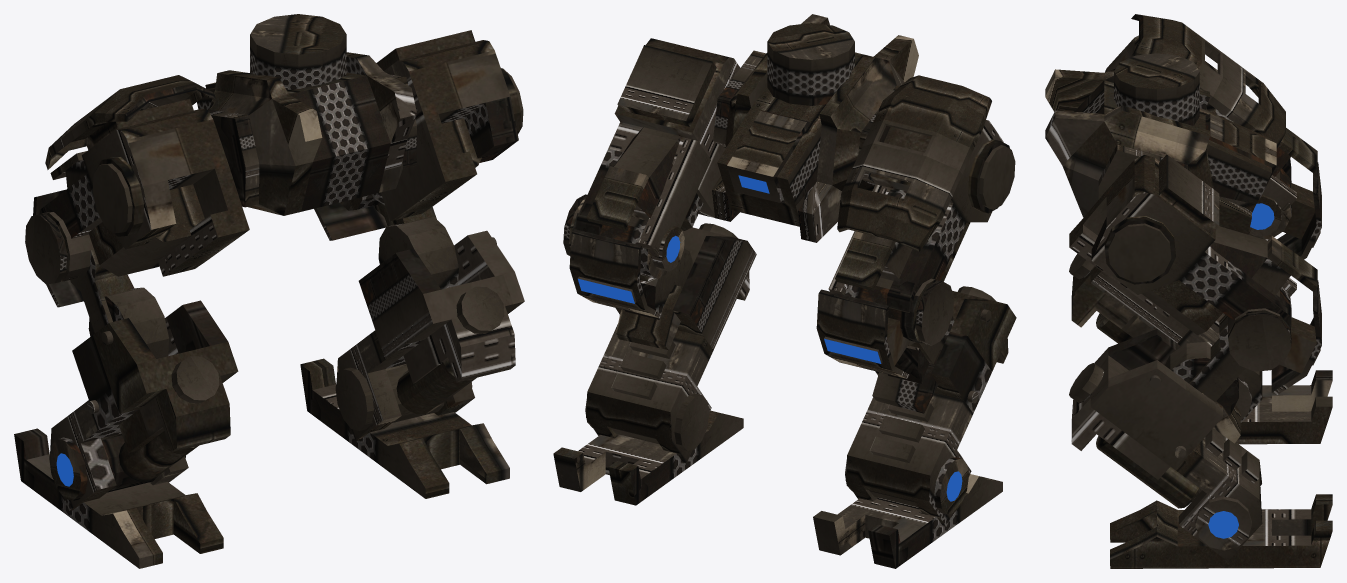
Rendered from Mecha.glb.
3 views of the same model, side by side, from view 1: azimuth 30°, elevation 25°; view 2: azimuth 150°, elevation 25°; view 3: azimuth 270°, elevation 25° (orthographic). The views are drawn at different scales.
Visible parts, largest first — view 1: Mecha; view 2: Mecha; view 3: Mecha.
Part boxes in pixels (box(x1,y1,x2,y2)): Mecha: box(14, 14, 524, 568); Mecha: box(553, 14, 1016, 568); Mecha: box(1045, 14, 1332, 568).
Size of what is drawn, in the model's own units: 6.51 by 7.4 by 4.62.
Materials: 2 (1 with a texture image).
